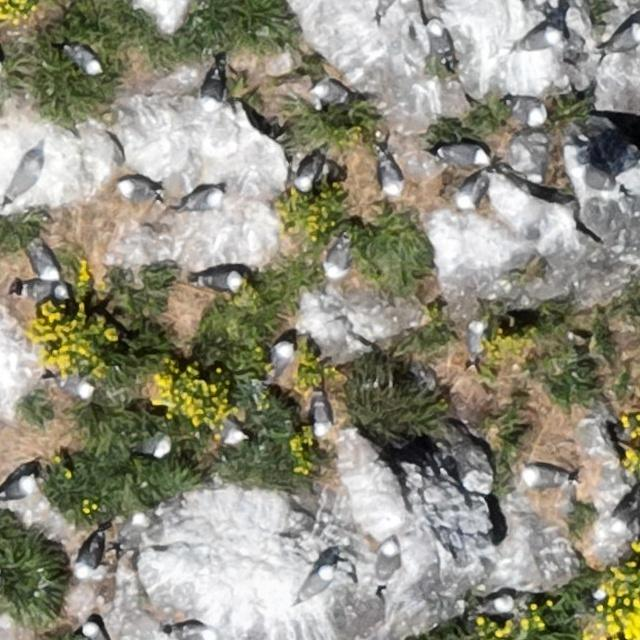umineko: (5, 154, 42, 203), (74, 529, 108, 581), (310, 75, 357, 106), (504, 95, 547, 127), (456, 172, 491, 210), (214, 418, 248, 447), (444, 145, 487, 166), (140, 430, 172, 458), (304, 566, 333, 596), (522, 28, 560, 50), (525, 468, 566, 488), (72, 47, 101, 75), (327, 242, 350, 277), (270, 342, 293, 377), (378, 542, 398, 582), (530, 183, 570, 203), (56, 376, 92, 398), (34, 250, 60, 280), (2, 475, 34, 499), (379, 159, 400, 195), (429, 22, 450, 58), (311, 396, 330, 435), (184, 190, 221, 210), (202, 271, 243, 289), (118, 181, 152, 202), (22, 281, 58, 299), (296, 160, 318, 189), (481, 596, 515, 614), (202, 73, 222, 102), (468, 322, 484, 358), (83, 623, 106, 640)
